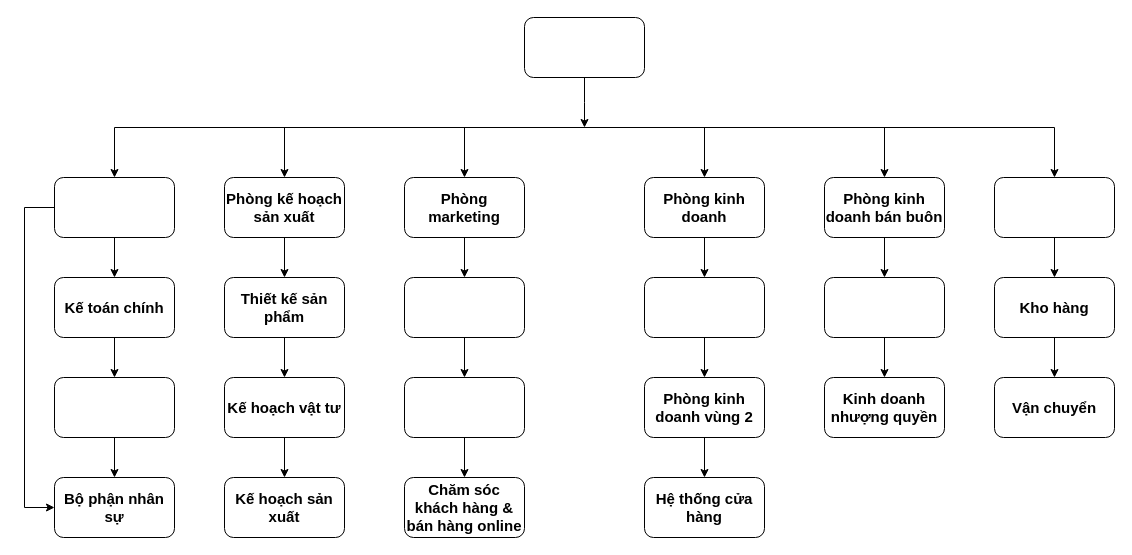
The diagram is 1132 pixels wide and 555 high, and some of its shapes have lost their labels. Each missing label, with the centre of its shape:
Ban giám đốc: the point at 584,47
Bộ phận kho vận: the point at 1054,207
Digital Marketing: the point at 464,407
Kinh doanh bán buôn: the point at 884,307
Kế toán quản trị: the point at 114,407
Phòng kinh doanh vùng 1: the point at 704,307
Phòng kế toán: the point at 114,207
Truyền thông: the point at 464,307
